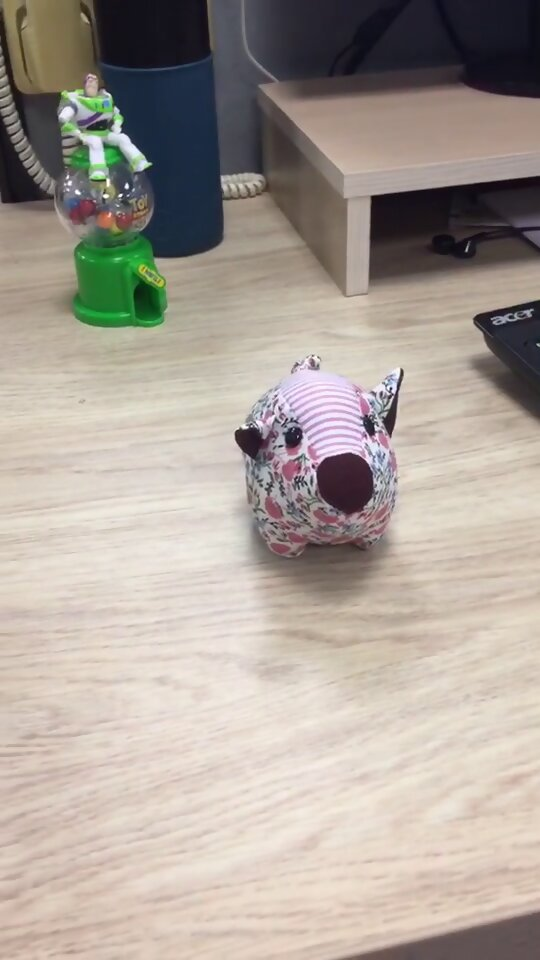pig: (229, 350, 409, 567)
